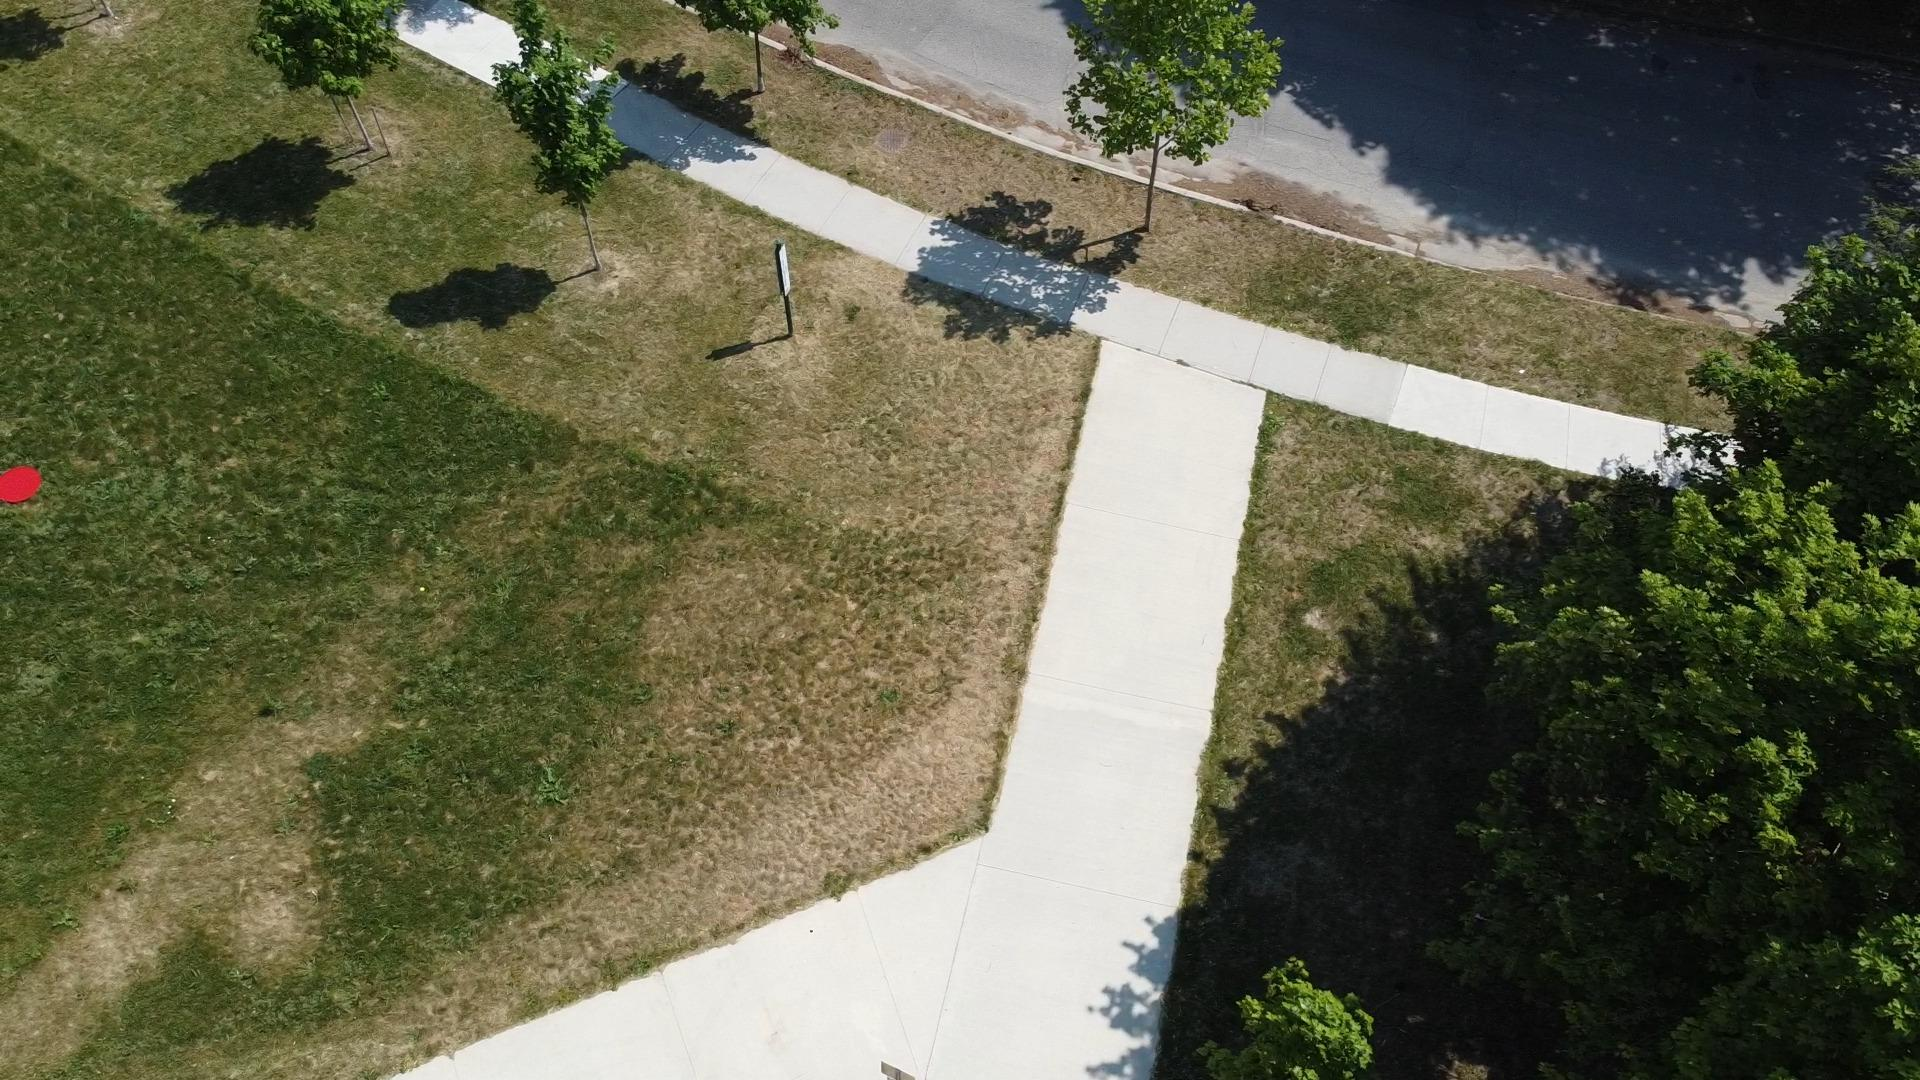Red: (0, 464, 44, 505)
